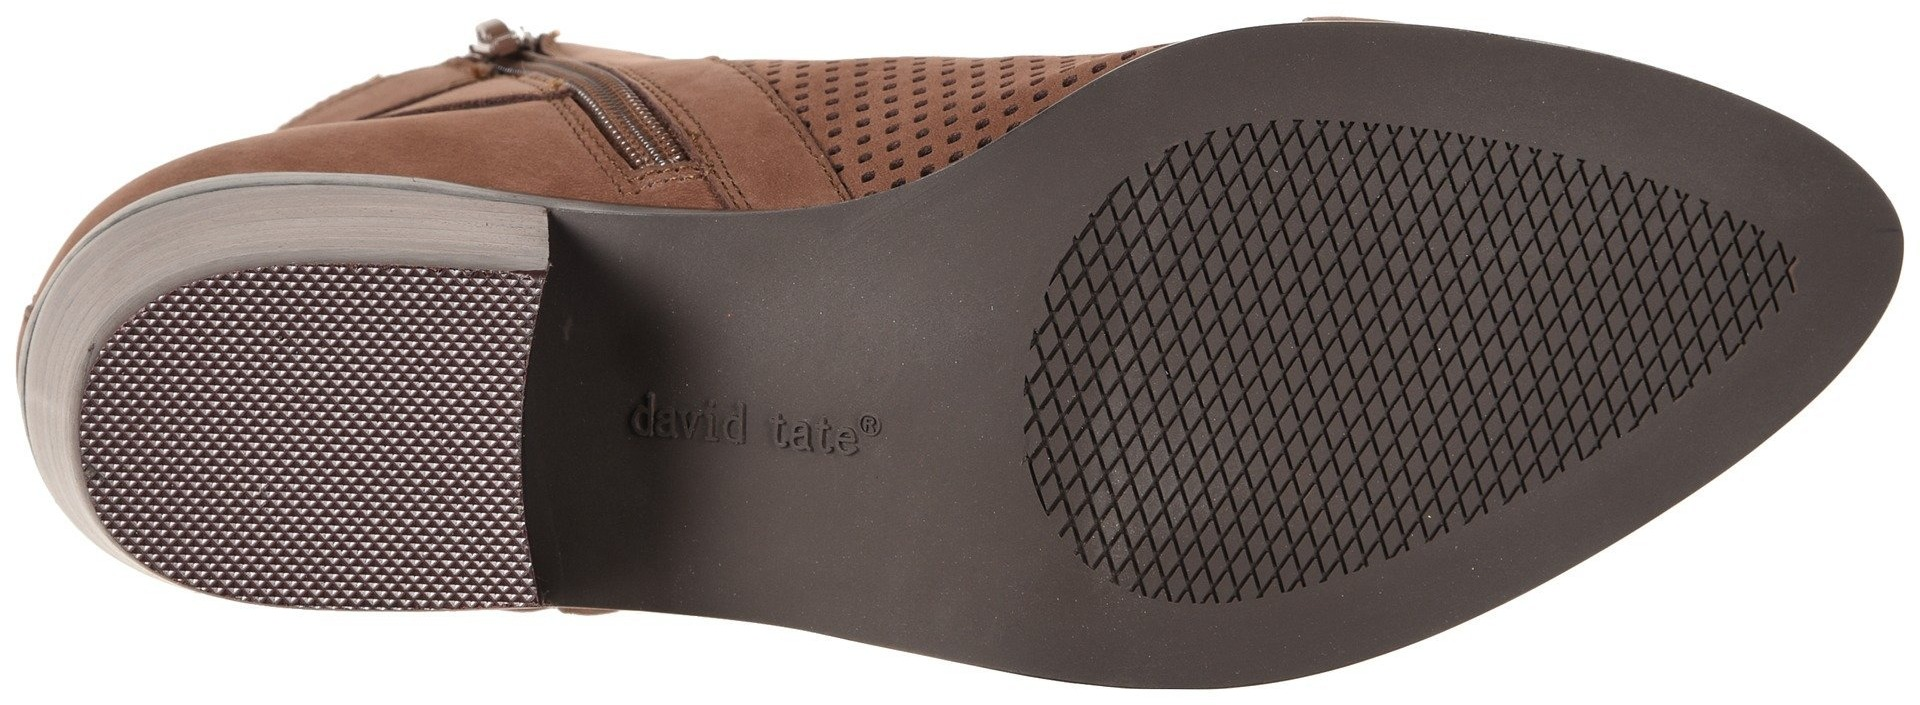other: (324, 286, 516, 591), (107, 341, 321, 534)
quad: (1069, 259, 1378, 548), (1389, 175, 1651, 435)
